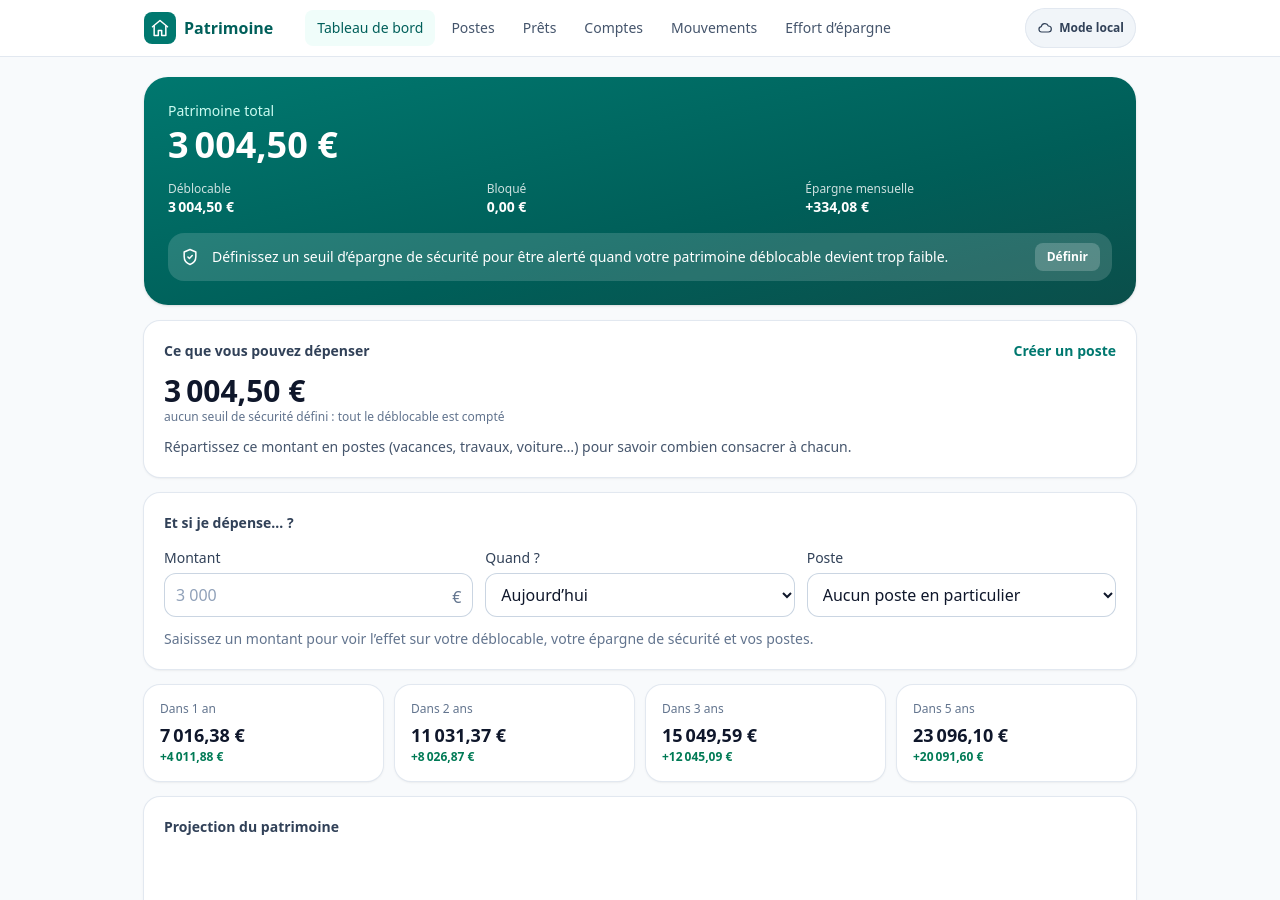
Test: Épargne de sécurité › invite à définir un seuil, puis alerte une fois le seuil enregistré
Click the button with aria-label "définir l’épargne de sécurité". click: (1067, 257)
box: [1035,243,1100,271]
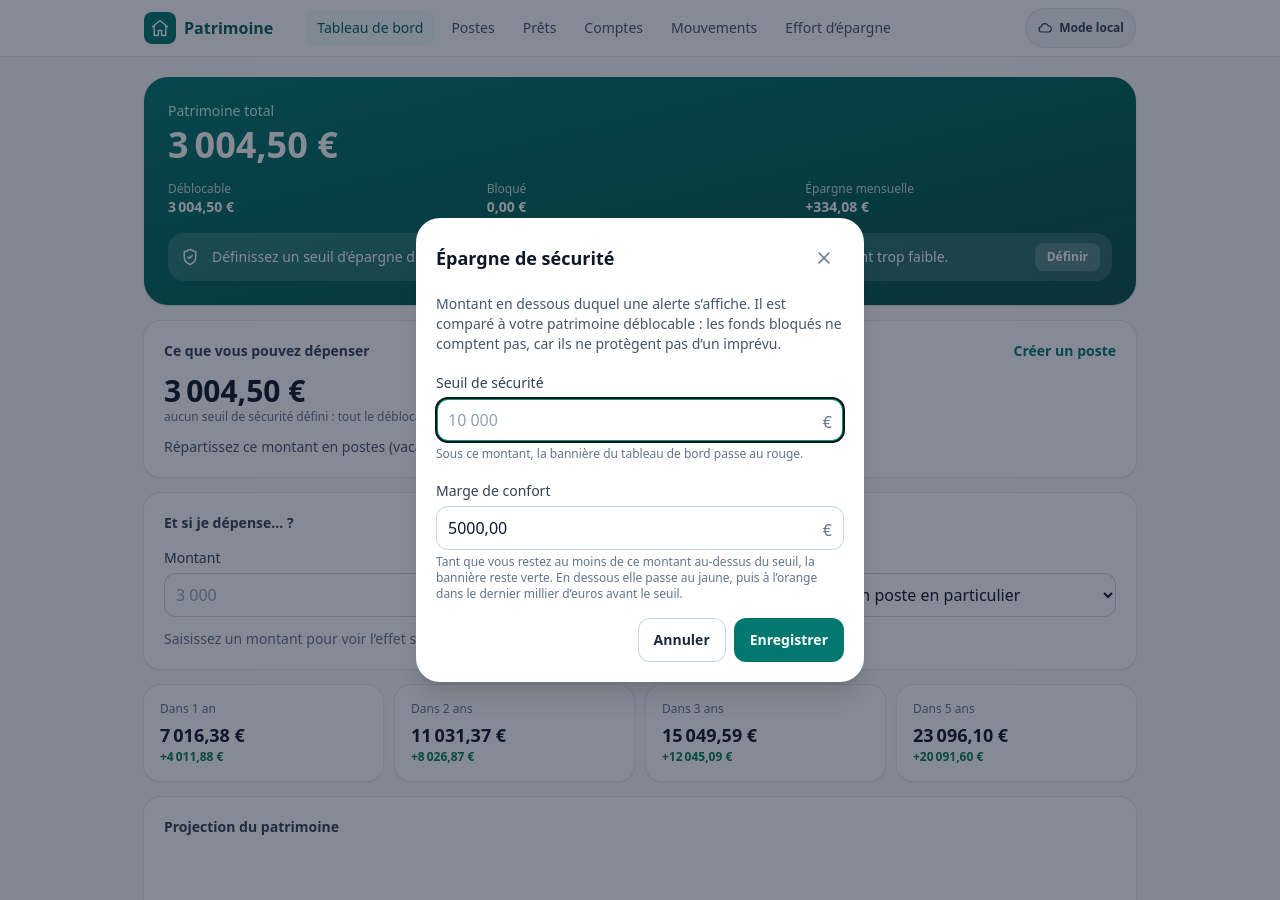
Expected: the field labelled "Marge de confort" holds "5000,00", [436,506,844,550]
Type "10000" into the field labelled "Seuil de sécurité". click: (640, 420)
box: [436,398,844,442]
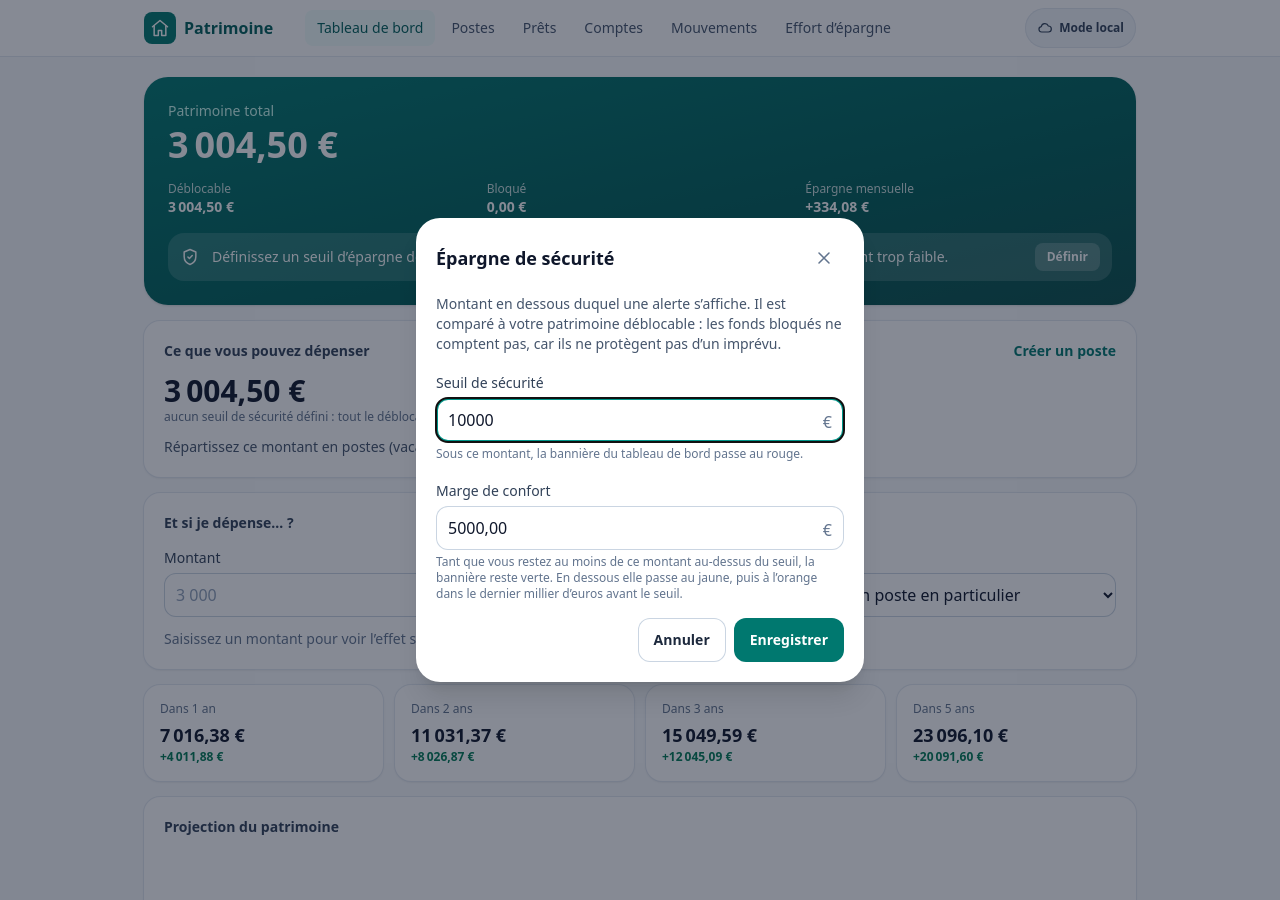
Click the button "Enregistrer". click: (789, 640)
box: [734,618,844,662]
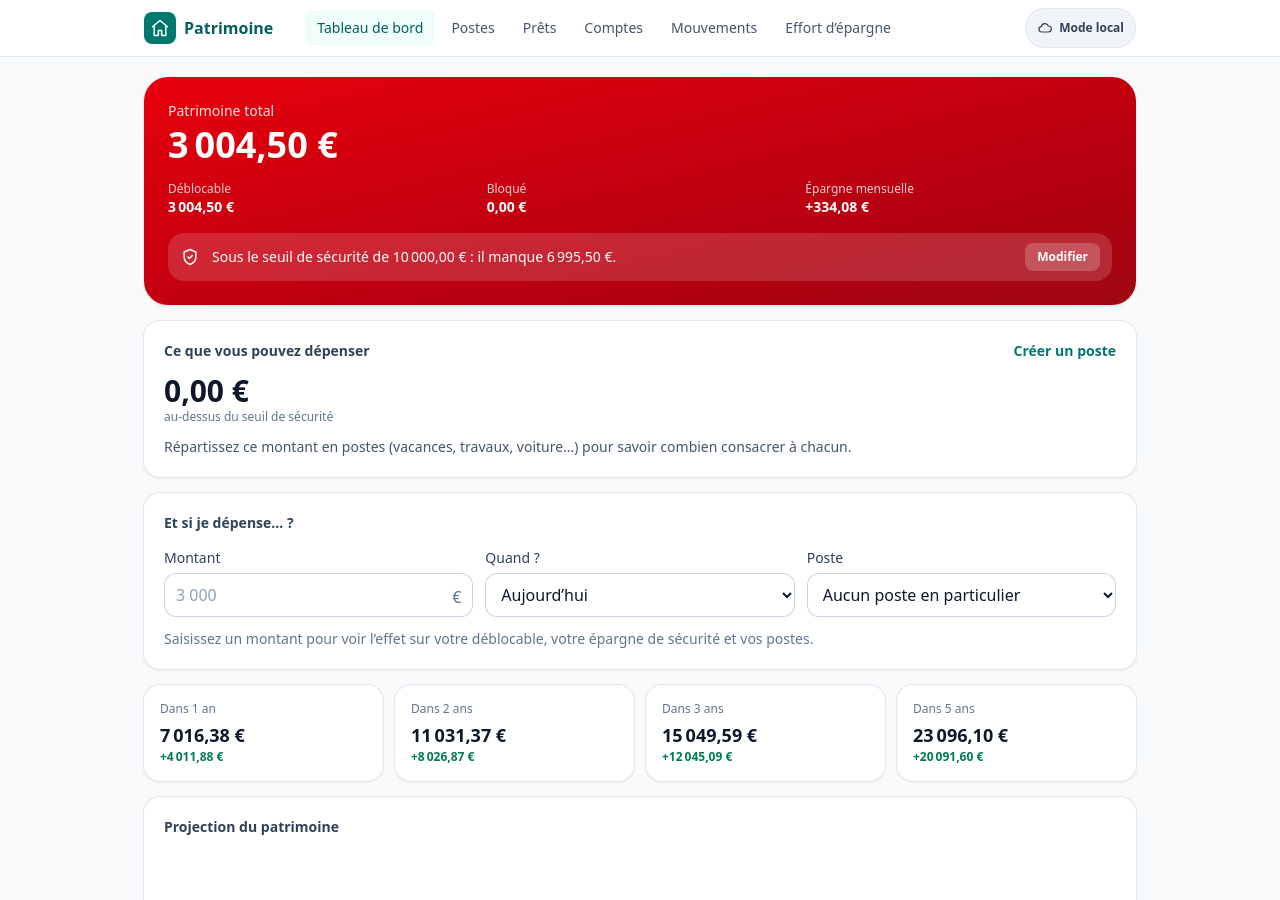
Expected: the dialog is gone
